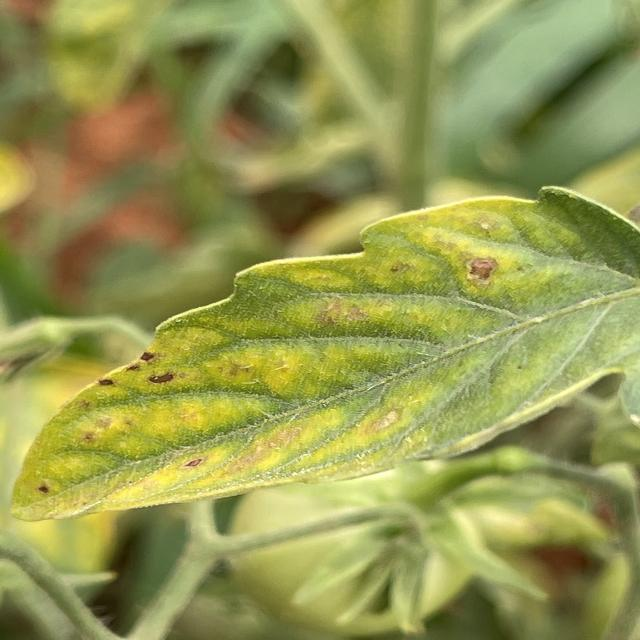tomato_early blight: (12, 187, 639, 520)
